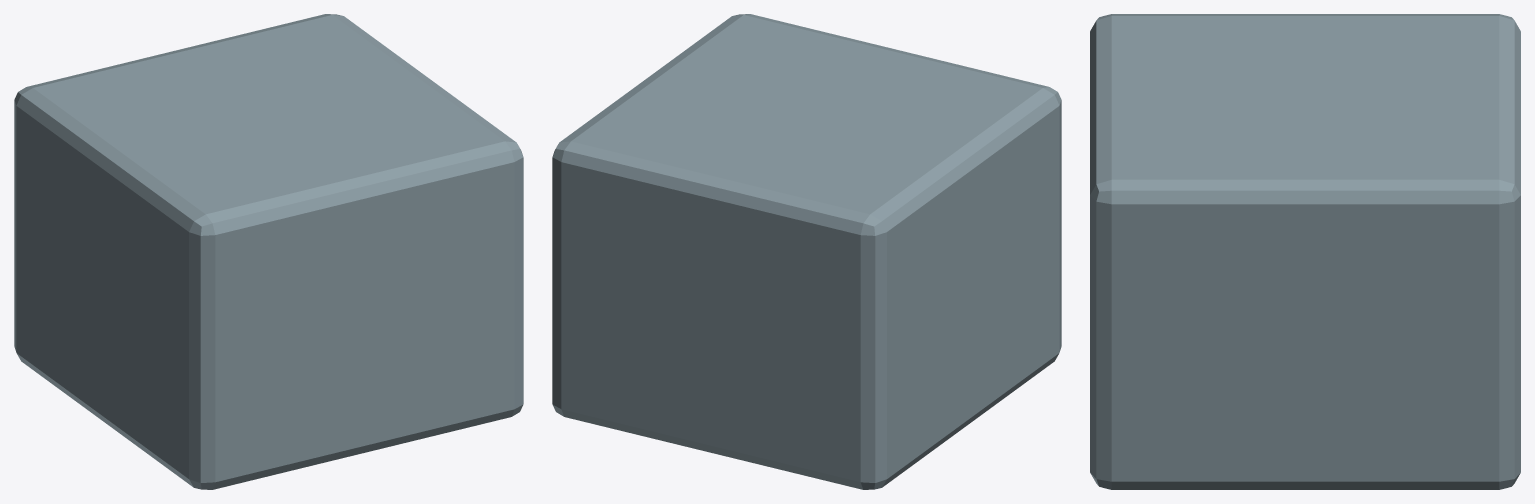
The model's file is wall.glb.
3 views of the same model, side by side, from view 1: azimuth 30°, elevation 25°; view 2: azimuth 150°, elevation 25°; view 3: azimuth 270°, elevation 25° (orthographic). The views are drawn at different scales.
Parts seen in each view (by area): view 1: Wall; view 2: Wall; view 3: Wall.
Boxes of the visible parts, x1=… form: Wall: x1=14, y1=14, x2=523, y2=489; Wall: x1=552, y1=14, x2=1061, y2=489; Wall: x1=1090, y1=14, x2=1520, y2=489.
Size of the model in its own units: 1.9 by 1.5 by 1.9.
